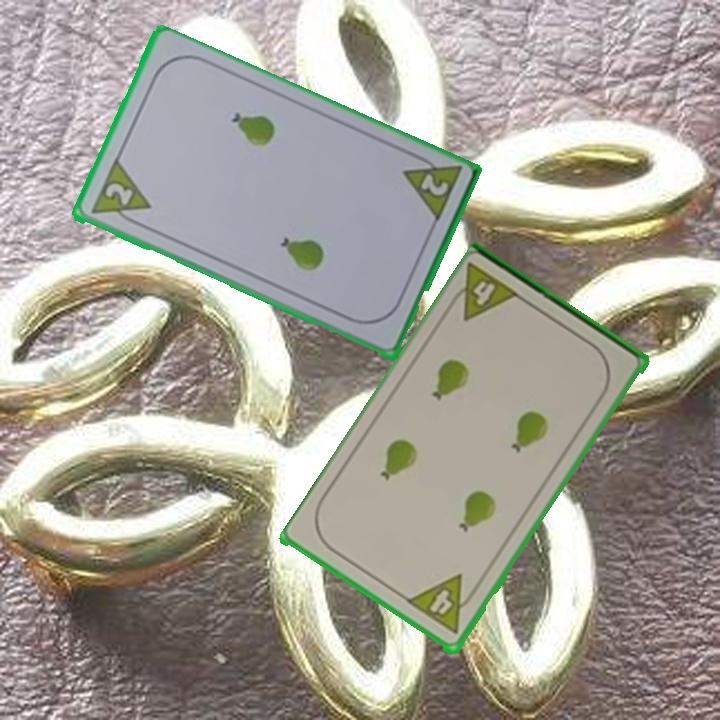2p: (399, 148, 464, 227), (86, 157, 154, 231)
4p: (443, 260, 524, 325), (404, 571, 481, 638)
